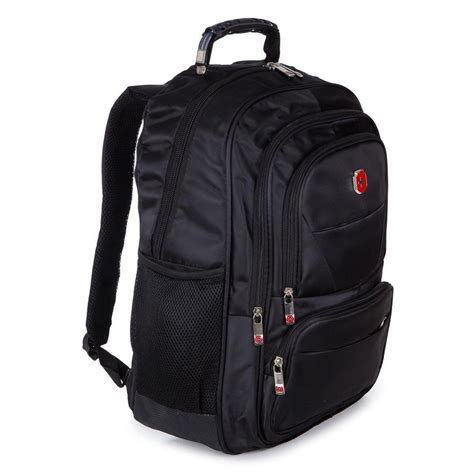nylon: (90, 18, 397, 455)
